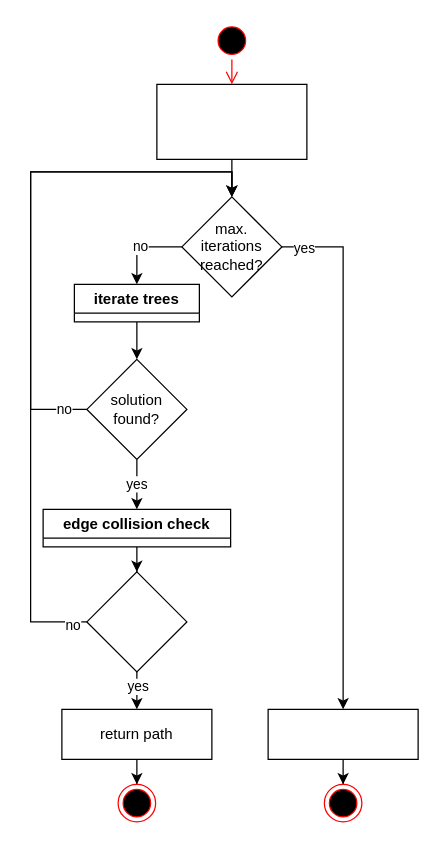
Image size: 440x844. Some labels were removed from this diagram. Here are the shapes that lost their labels. From the top down, the box of each, then its label:
(156, 83, 307, 159): initialize start & goal tree with start/goal point as root
(86, 571, 187, 672): collision free?
(267, 708, 418, 759): return none
